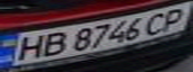4: (109, 18, 133, 45)
6: (121, 15, 151, 42)
7: (90, 21, 112, 50)
8: (69, 25, 93, 52)
B: (36, 29, 69, 57)
C: (139, 10, 175, 36)
H: (6, 33, 48, 62)
P: (154, 4, 193, 33)
